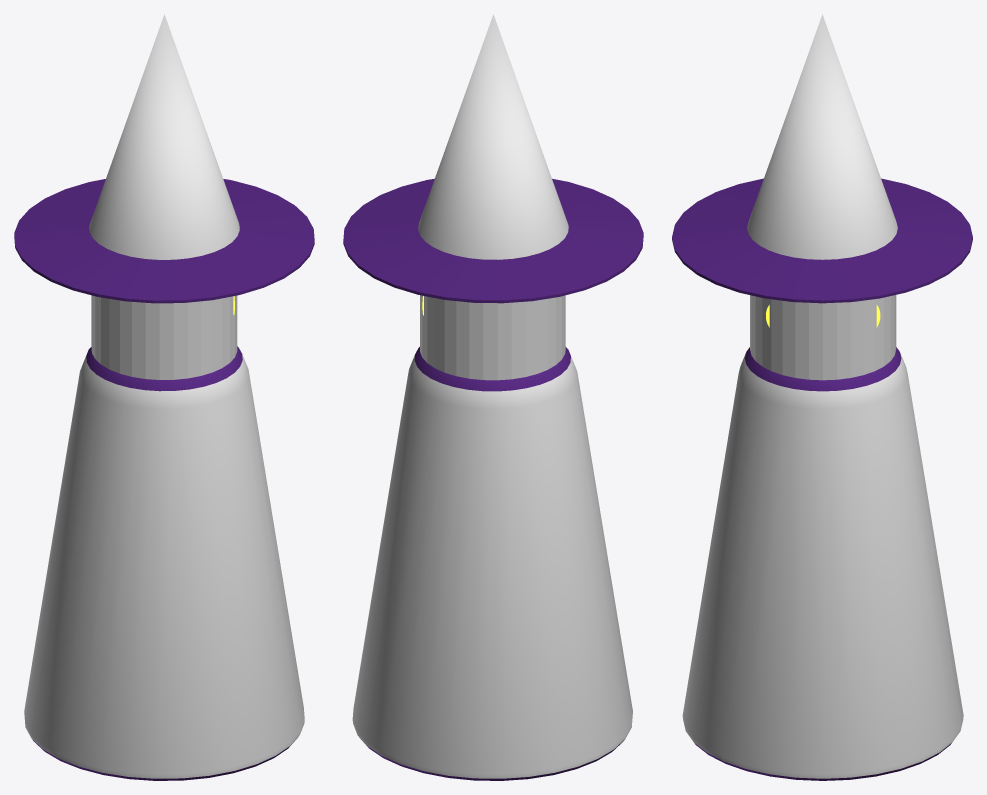
The model's file is wizard_1E.fbx.
3 views of the same model, side by side, from view 1: azimuth 30°, elevation 25°; view 2: azimuth 150°, elevation 25°; view 3: azimuth 270°, elevation 25° (orthographic).
Visible parts, largest first — view 1: Cone, Cone.001, Circle, Cylinder; view 2: Cone, Cone.001, Circle, Cylinder; view 3: Cone, Cone.001, Circle, Cylinder.
Part boxes in pixels (x1,y1,x2,y2): Cone: (24,346,304,780); Cone.001: (89,14,239,259); Circle: (14,179,314,303); Cylinder: (91,295,237,379); Cone: (352,347,632,780); Cone.001: (418,14,568,259); Circle: (343,178,643,303); Cylinder: (420,295,565,380); Cone: (682,347,963,780); Cone.001: (747,14,897,259); Circle: (672,178,972,303); Cylinder: (750,295,896,380).
Size of the model in its own units: 150 by 391 by 150.
